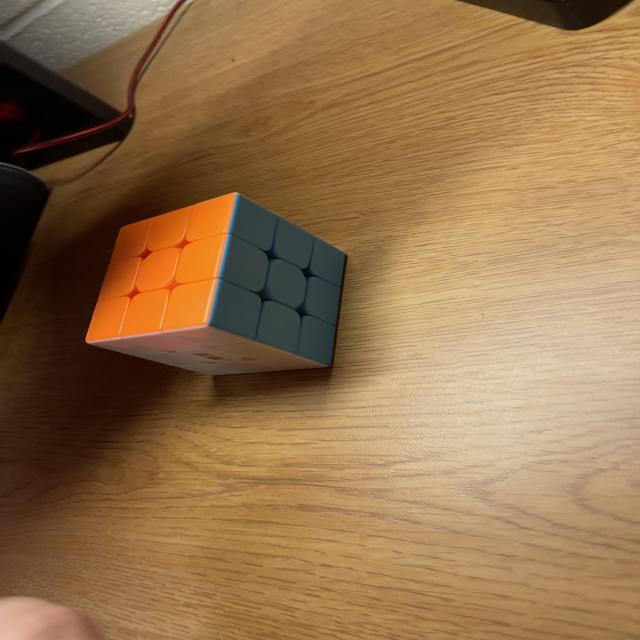Rubiks Cube: (88, 193, 347, 377)
